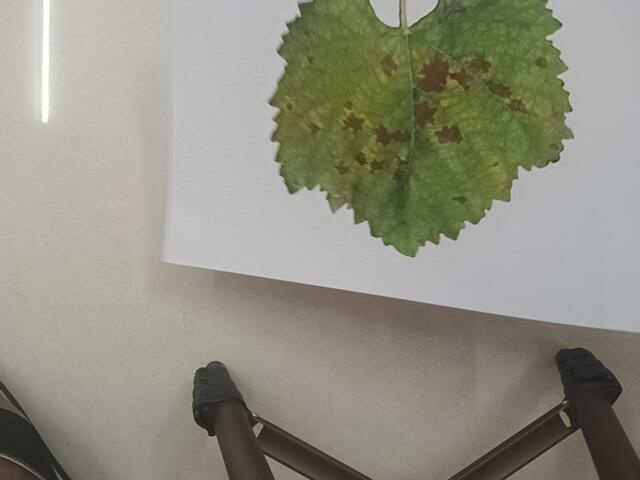Grape_Leaf_Vine_Disease: (257, 10, 602, 249)
